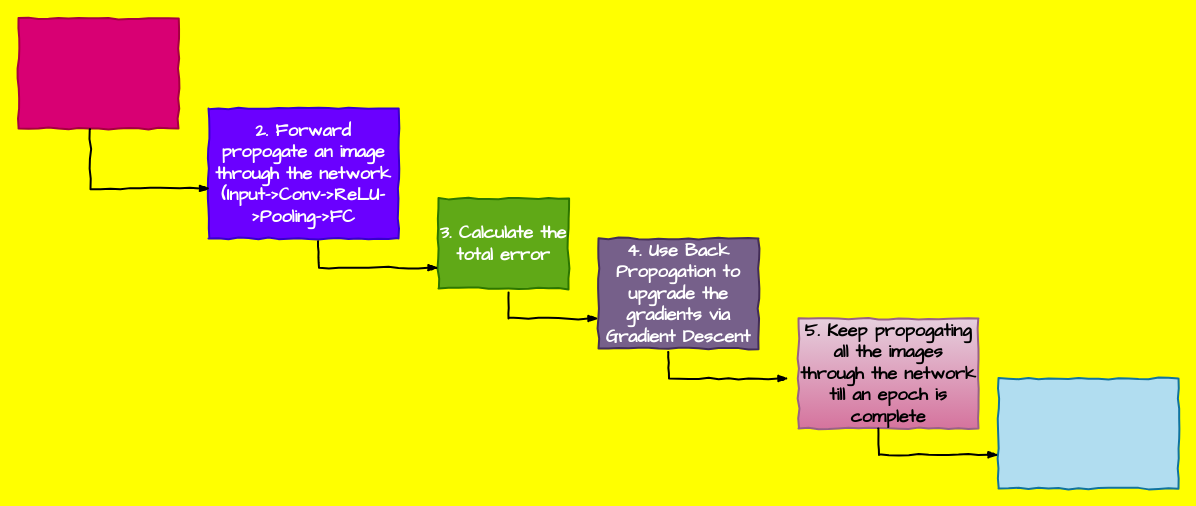
The diagram is 1196 pixels wide and 506 high, and some of its shapes have lost their labels. The centre of each missing label's shape, as x and y in pixels:
1.Random weight initialization in the Convolution Kernels: (98,73)
6. Keep completing epochs till our loss and accuracy are satisfactory.: (1088,433)
